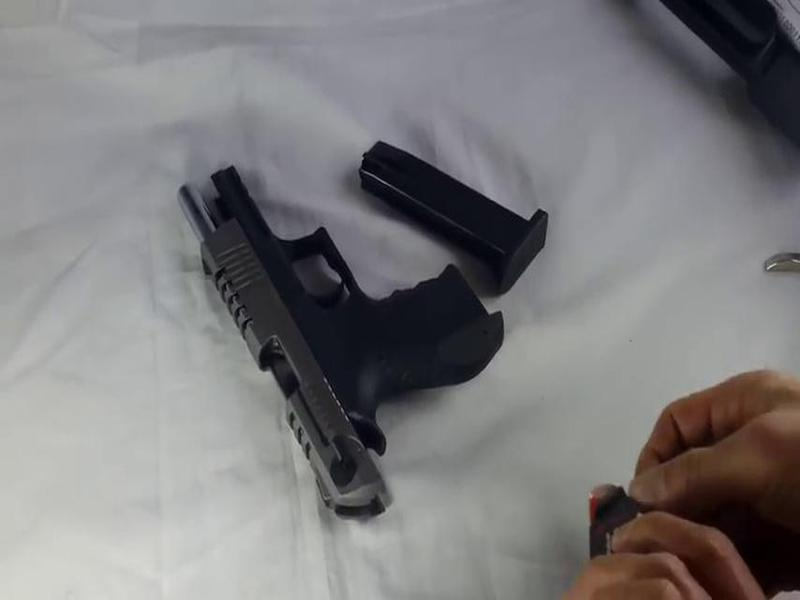Pistola: (165, 147, 519, 526)
